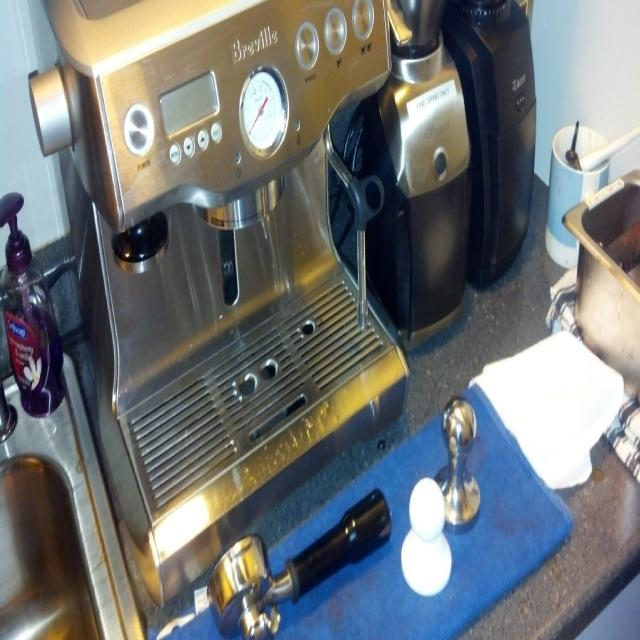Coffee-Machine: (10, 0, 498, 618)
